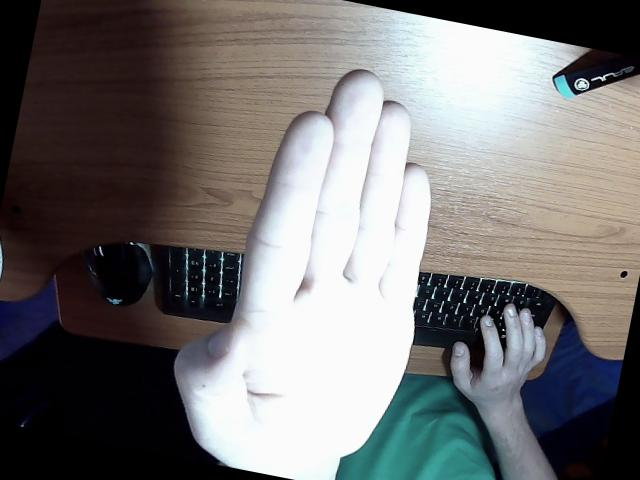paper: (175, 71, 555, 480)
